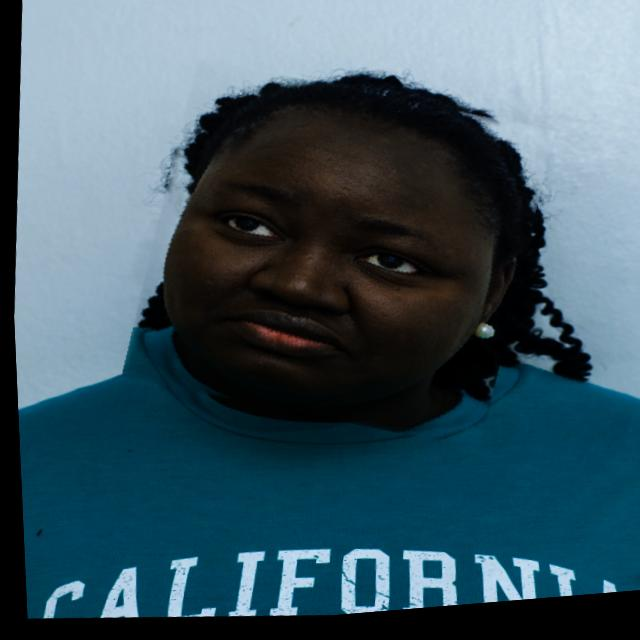sad: (118, 53, 554, 466)
